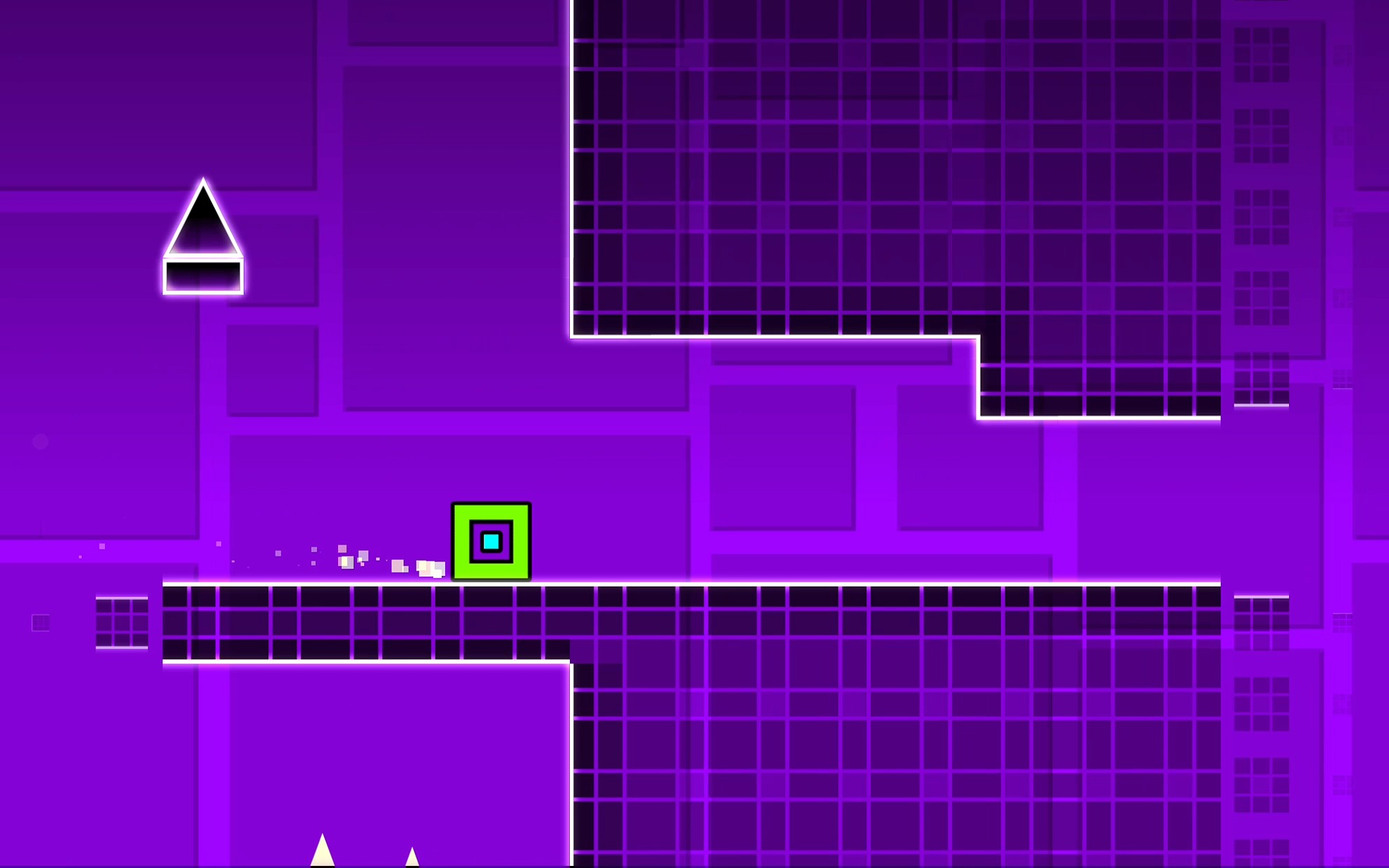Block2: (574, 0, 1306, 335), (568, 577, 1302, 854), (160, 582, 573, 658), (982, 338, 1314, 416)
Block3: (164, 256, 246, 294)
Player: (453, 499, 533, 577)
Spike: (169, 181, 246, 259)
